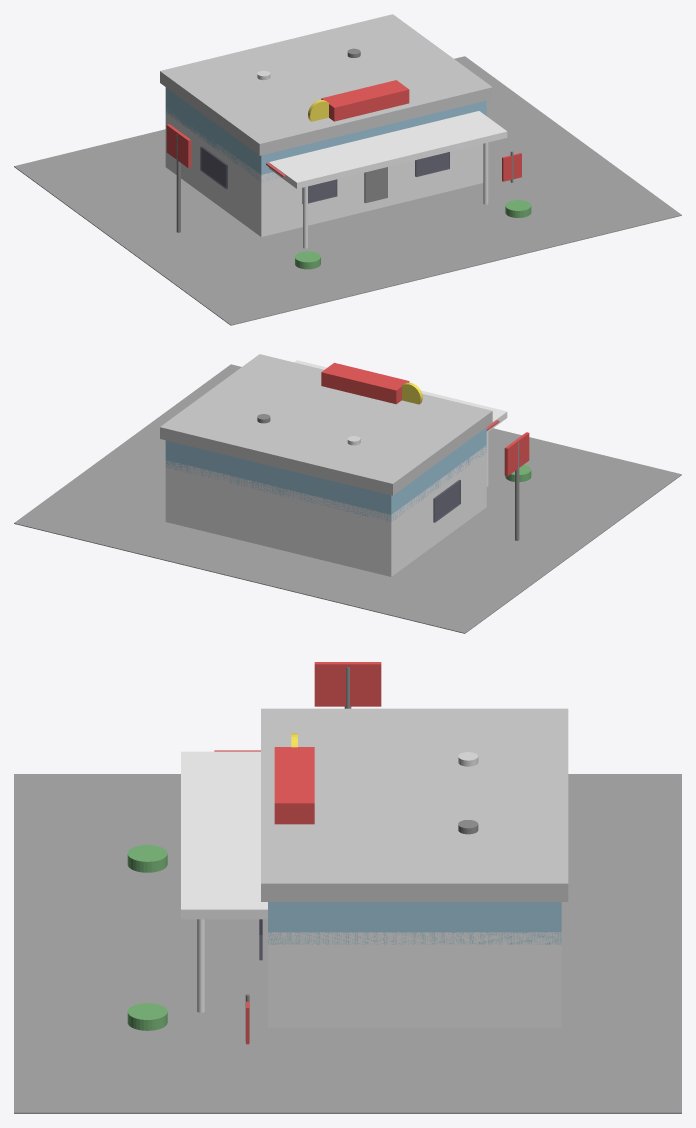
File: BurgerKing.fbx
3 renders of one model, top to bottom at view 1: azimuth 30°, elevation 25°; view 2: azimuth 150°, elevation 25°; view 3: azimuth 270°, elevation 25°, orthographic. The views are drawn at different scales.
Visible parts, largest first — view 1: Ground, Roof, Building_Lower, Awning_Base, Building_Upper, BURGERS_Sign, Menu_Board, Entrance_Door, Side_Window, Front_Window_2, Front_Window_1, Outdoor_Menu_Sign; view 2: Ground, Roof, Building_Lower, Building_Upper, BURGERS_Sign, Menu_Board, Side_Window, Awning_Base; view 3: Ground, Roof, Building_Lower, Awning_Base, Building_Upper, BURGERS_Sign, Menu_Board, Landscape_2, Landscape_1, Awning_Post_2.
Boxes of the visible parts, x1=… form: Ground: x1=14, y1=56, x2=681, y2=325; Roof: x1=160, y1=14, x2=492, y2=155; Building_Lower: x1=165, y1=108, x2=483, y2=236; Awning_Base: x1=268, y1=111, x2=507, y2=188; Building_Upper: x1=165, y1=87, x2=486, y2=182; BURGERS_Sign: x1=321, y1=80, x2=409, y2=121; Menu_Board: x1=166, y1=124, x2=191, y2=167; Entrance_Door: x1=364, y1=167, x2=387, y2=203; Side_Window: x1=200, y1=146, x2=227, y2=189; Front_Window_2: x1=415, y1=152, x2=449, y2=176; Front_Window_1: x1=302, y1=179, x2=337, y2=203; Outdoor_Menu_Sign: x1=502, y1=153, x2=521, y2=181; Ground: x1=14, y1=364, x2=681, y2=633; Roof: x1=160, y1=354, x2=492, y2=495; Building_Lower: x1=165, y1=445, x2=486, y2=576; Building_Upper: x1=165, y1=427, x2=486, y2=522; BURGERS_Sign: x1=321, y1=362, x2=409, y2=404; Menu_Board: x1=504, y1=432, x2=529, y2=476; Side_Window: x1=433, y1=479, x2=460, y2=522; Awning_Base: x1=294, y1=360, x2=507, y2=432; Ground: x1=14, y1=774, x2=681, y2=1113; Roof: x1=261, y1=708, x2=568, y2=901; Building_Lower: x1=268, y1=932, x2=561, y2=1027; Awning_Base: x1=181, y1=751, x2=267, y2=919; Building_Upper: x1=268, y1=902, x2=561, y2=944; BURGERS_Sign: x1=274, y1=747, x2=314, y2=824; Menu_Board: x1=314, y1=662, x2=381, y2=706; Landscape_2: x1=127, y1=1003, x2=167, y2=1030; Landscape_1: x1=127, y1=845, x2=167, y2=872; Awning_Post_2: x1=197, y1=919, x2=204, y2=1012.
Size of the model in its own units: 1200 by 290 by 1000.
